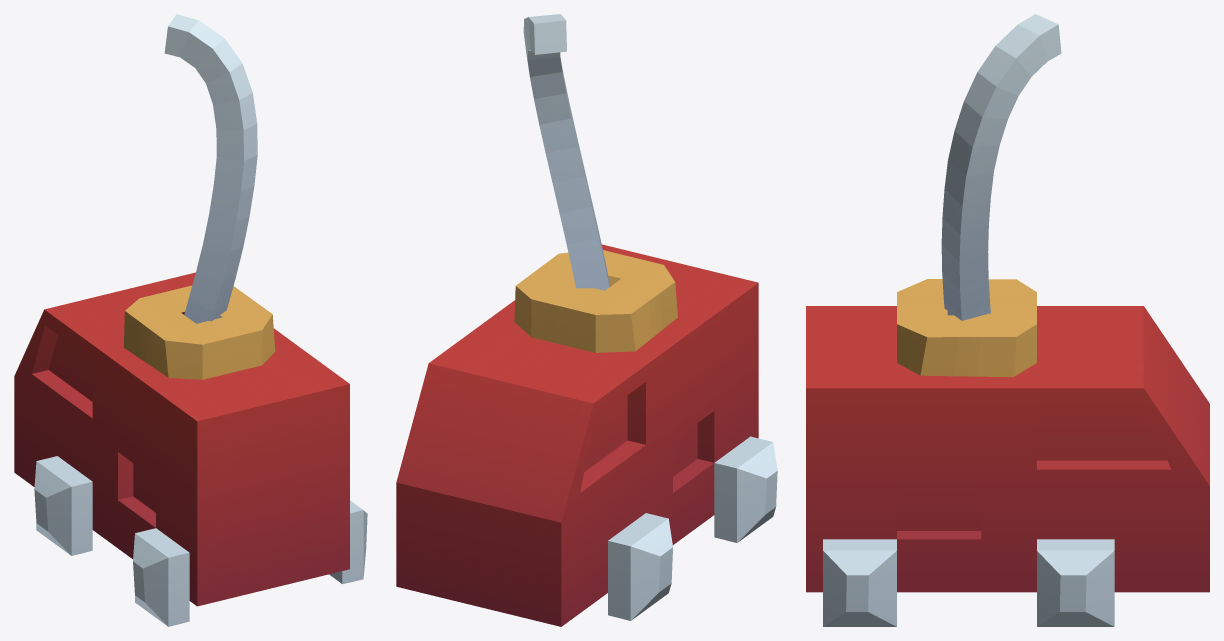
File: firetrucksippycup.fbx
The picture shows the model from 3 angles, left to right: view 1: azimuth 30°, elevation 25°; view 2: azimuth 150°, elevation 25°; view 3: azimuth 270°, elevation 25°; orthographic projection. The views are drawn at different scales.
Parts seen in each view (by area): view 1: sippy cup; view 2: sippy cup; view 3: sippy cup.
Part boxes in pixels (x1,y1,x2,y2): sippy cup: (14,14,367,626); sippy cup: (396,14,777,626); sippy cup: (806,14,1209,626).
Bounding box in the file's own units: 102 × 219 × 143.
